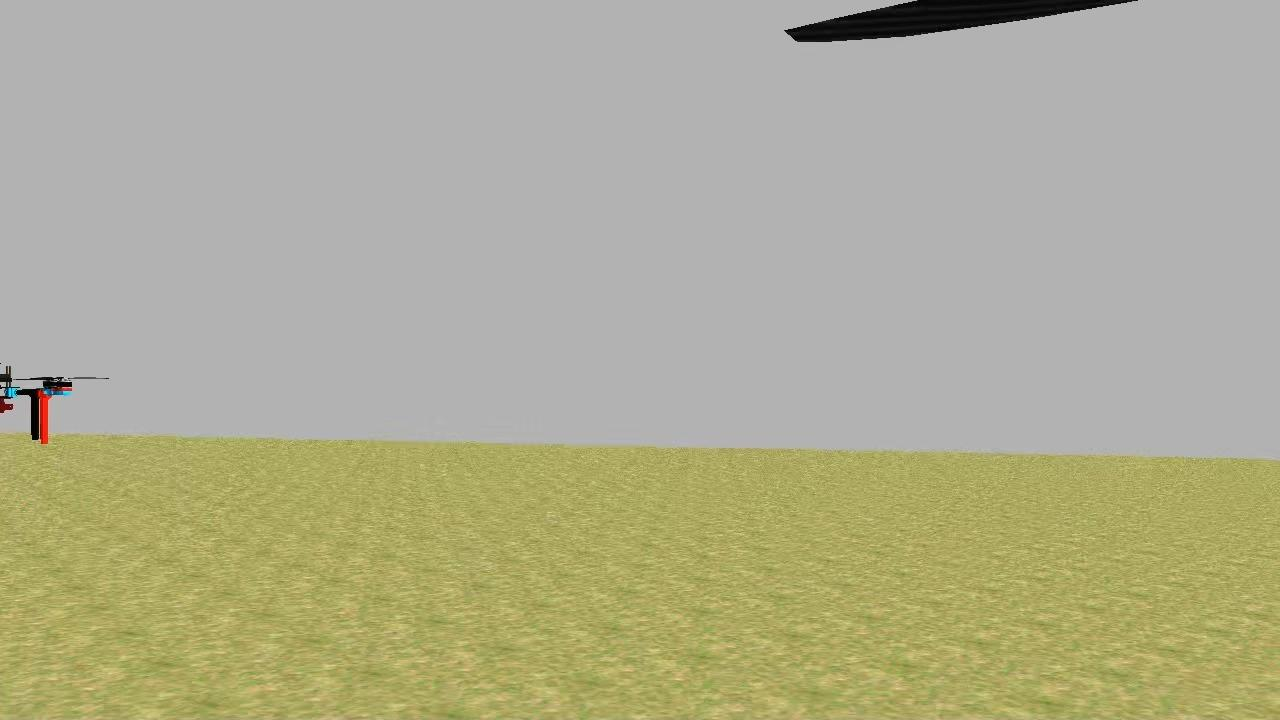UAV: (0, 362, 84, 452)
